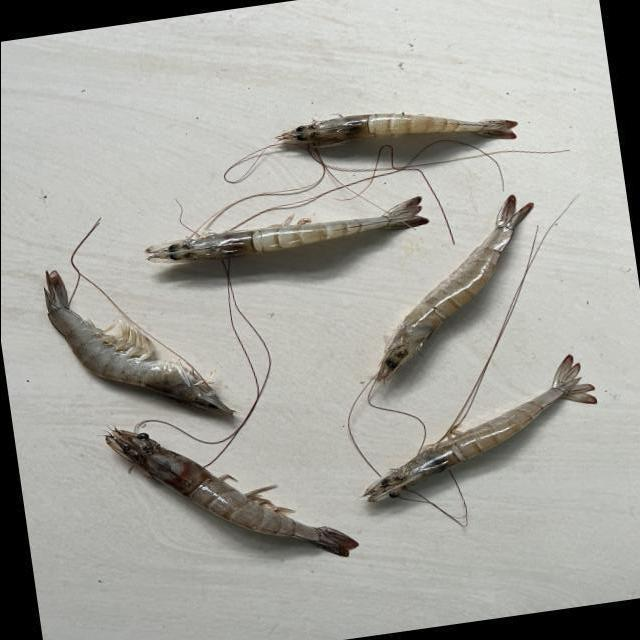shrimp: (364, 355, 597, 503), (105, 430, 357, 558), (376, 195, 533, 382), (43, 271, 234, 415), (145, 197, 428, 262), (275, 113, 517, 145)
